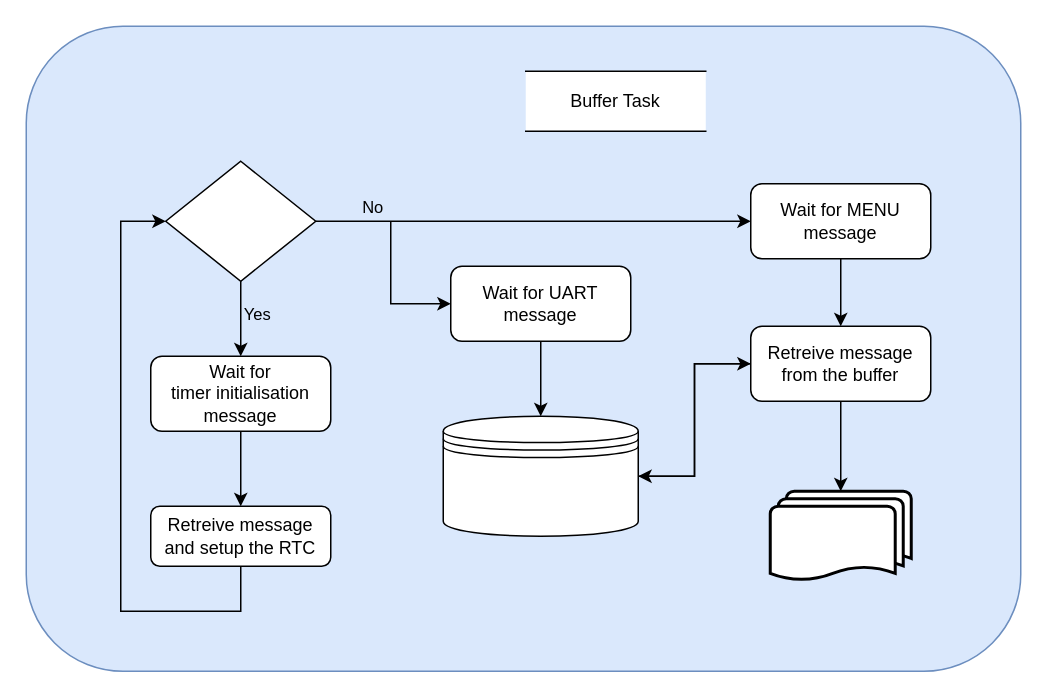
The diagram is 1047 pixels wide and 698 high, and some of its shapes have lost their labels. Each missing label, with the centre of its shape:
"Is cold start flag set?" belongs at pixel 240 220.
"Write the UART message to the circular buffer" belongs at pixel 540 475.
"Write to LCD queue" belongs at pixel 840 535.
